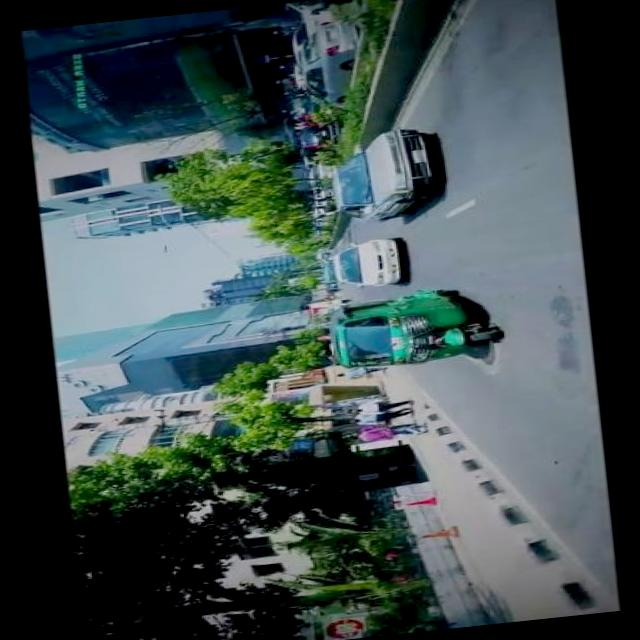car: (324, 120, 440, 224), (291, 15, 357, 104), (326, 234, 404, 288), (293, 116, 336, 164), (303, 160, 332, 191)
motorcycle: (322, 282, 500, 371)
